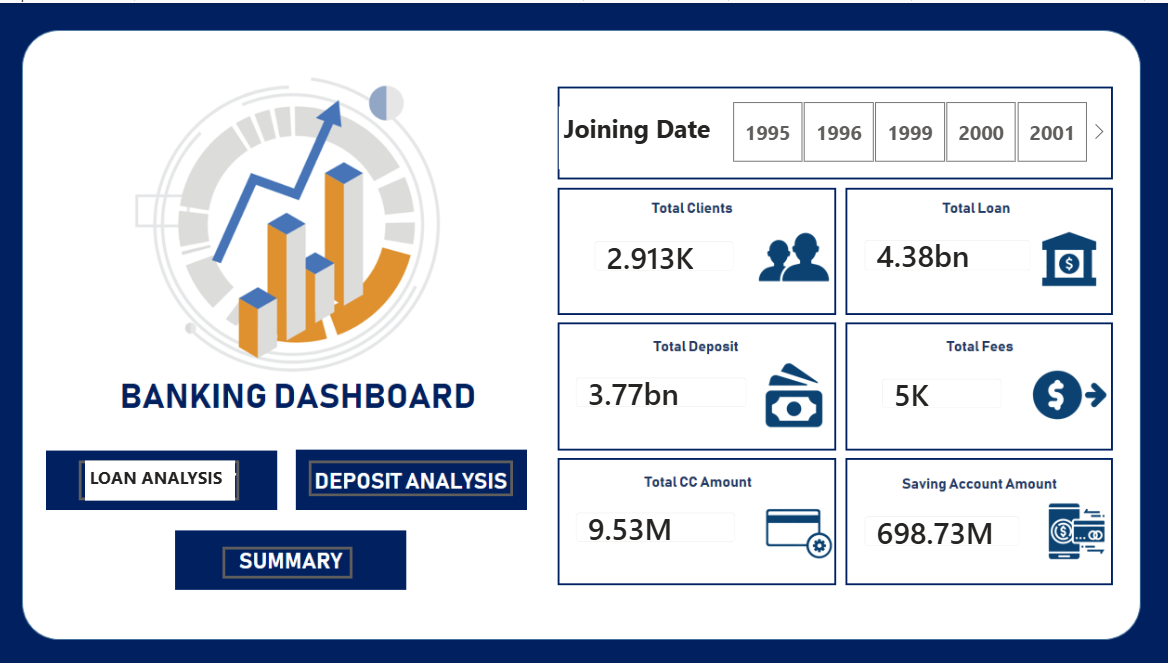

The page's visual inventory and layout, read from the dashboard file:
{"tool":"powerbi","page":{"name":"Dashboard","canvas":[1280,720],"ordinal":0},"visuals":[{"type":"cardVisual","fields":{"Data":["Count(Clients - Banking.Name)"]},"box":[639.4,240.1,184.2,66.3],"z":0},{"type":"cardVisual","fields":{"Data":["Clients - Banking.Total Loan"]},"box":[929.7,238.7,213.6,67.8],"z":1000},{"type":"cardVisual","fields":{"Data":["Clients - Banking.Total Deposit"]},"box":[618.8,386,218,66.3],"z":2000},{"type":"cardVisual","fields":{"Data":["Sum(Clients - Banking.Saving Accounts)"]},"box":[929.7,536.3,201.8,66.3],"z":4000},{"type":"cardVisual","fields":{"Data":["Sum(Clients - Banking.Credit Card Balance)"]},"box":[618.8,531.9,206.3,66.3],"z":5000},{"type":"slicer","fields":{"Values":["Clients - Banking.Year of Joining"]},"box":[780,100,431.4,78.6],"z":6000},{"type":"textbox","box":[618.6,111.4,177.1,67.1],"z":7000},{"type":"actionButton","box":[101.4,492.9,172.9,42.9],"z":8000},{"type":"actionButton","box":[348.6,492.9,220,38.6],"z":9000},{"type":"actionButton","box":[255.7,585.7,140,34.3],"z":10000},{"type":"textbox","box":[107.1,492.9,161.4,42.9],"z":11000},{"type":"cardVisual","fields":{"Data":["Sum(Clients - Banking.Properties Owned)"]},"box":[948.8,387.5,163.5,66.3],"z":11001}]}

Visuals, with their boxes in screenshot pixels (x1, y1, x2, y2), scaled from the page's 1280x720 canvas onto the 1168x663 screenshot:
cardVisual - Count(Clients - Banking.Name): detection(583, 221, 752, 282)
cardVisual - Clients - Banking.Total Loan: detection(848, 220, 1043, 282)
cardVisual - Clients - Banking.Total Deposit: detection(565, 355, 764, 416)
cardVisual - Sum(Clients - Banking.Saving Accounts): detection(848, 494, 1032, 555)
cardVisual - Sum(Clients - Banking.Credit Card Balance): detection(565, 490, 753, 551)
slicer - Clients - Banking.Year of Joining: detection(712, 92, 1105, 164)
textbox: detection(564, 103, 726, 164)
actionButton: detection(93, 454, 250, 493)
actionButton: detection(318, 454, 519, 489)
actionButton: detection(233, 539, 361, 571)
textbox: detection(98, 454, 245, 493)
cardVisual - Sum(Clients - Banking.Properties Owned): detection(866, 357, 1015, 418)
